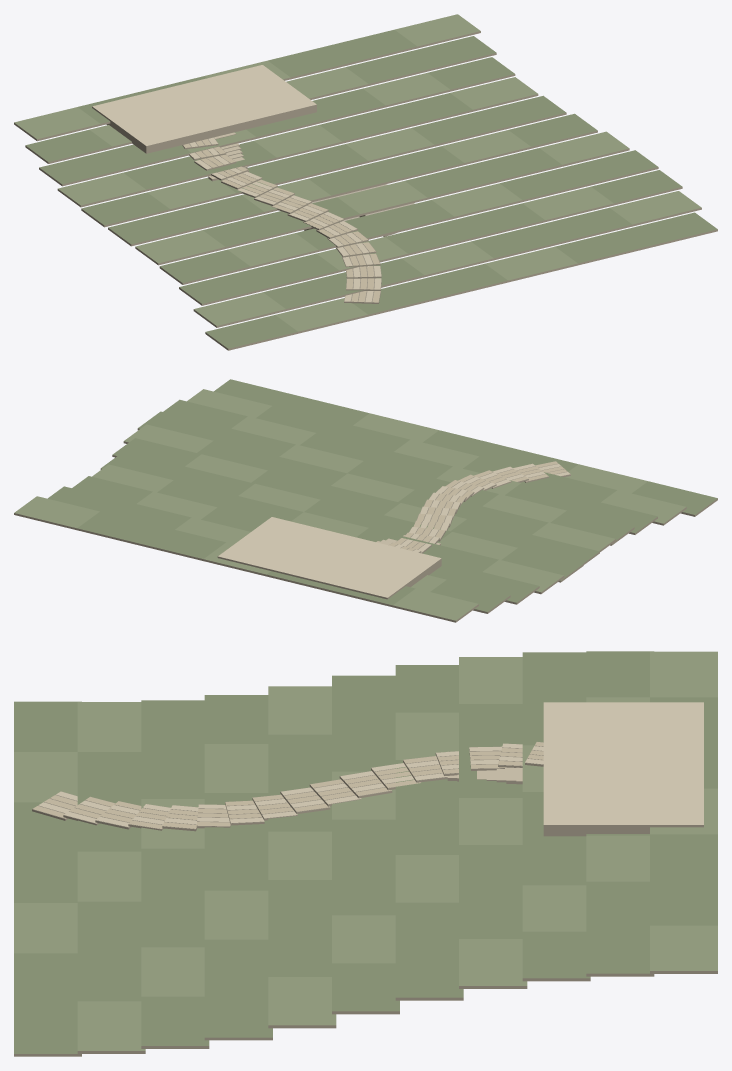
Rendered from world15-farm-terrain.glb.
3 views of the same model, one above another, from view 1: azimuth 30°, elevation 25°; view 2: azimuth 150°, elevation 25°; view 3: azimuth 270°, elevation 25° (orthographic). The views are drawn at different scales.
Visible parts, largest first — view 1: w15-main; view 2: w15-main; view 3: w15-main.
Part boxes in pixels (bbox=[...]): w15-main: bbox=[14, 14, 717, 350]; w15-main: bbox=[14, 379, 717, 622]; w15-main: bbox=[14, 651, 717, 1056].
Bounding box in the file's own units: 84.58 × 9.83 × 70.3.
